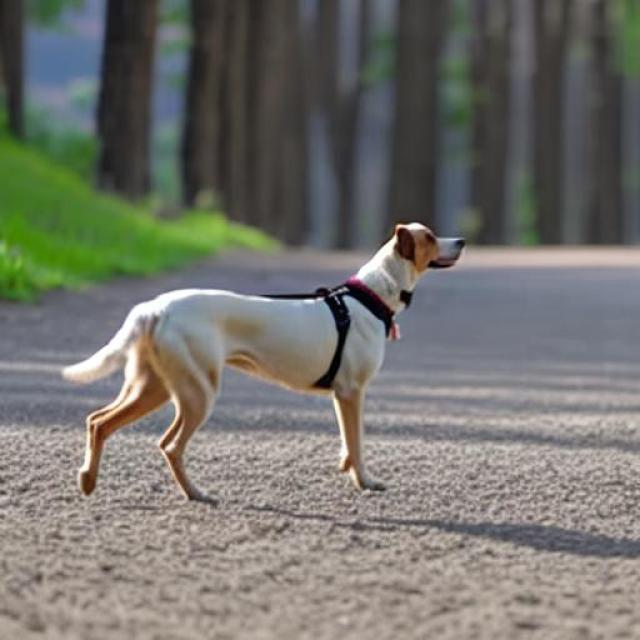Dog: (63, 222, 466, 503)
